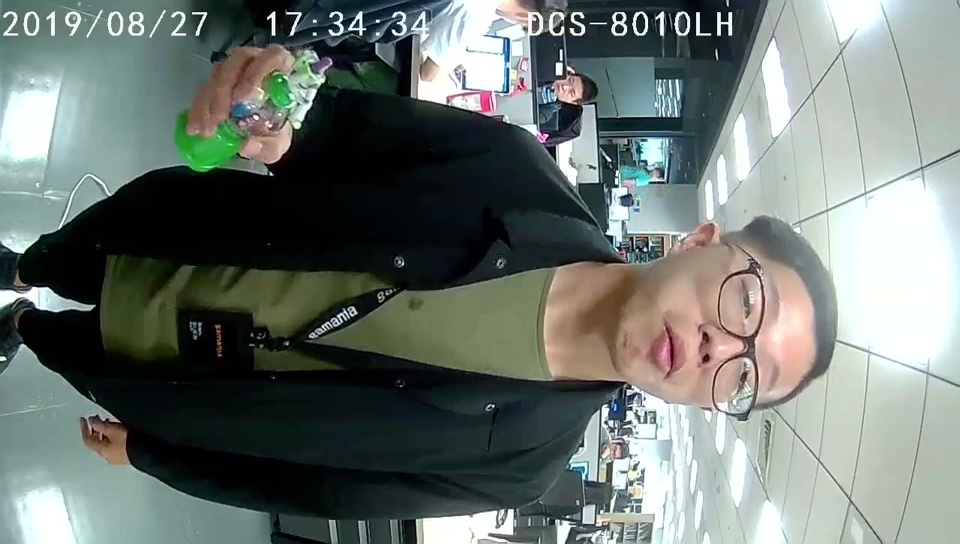buzz: (174, 49, 332, 174)
